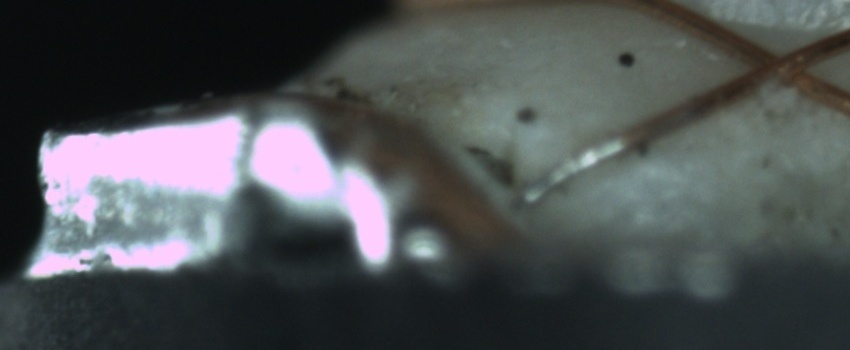CL: (728, 27, 828, 99)
TS: (517, 131, 625, 205)
